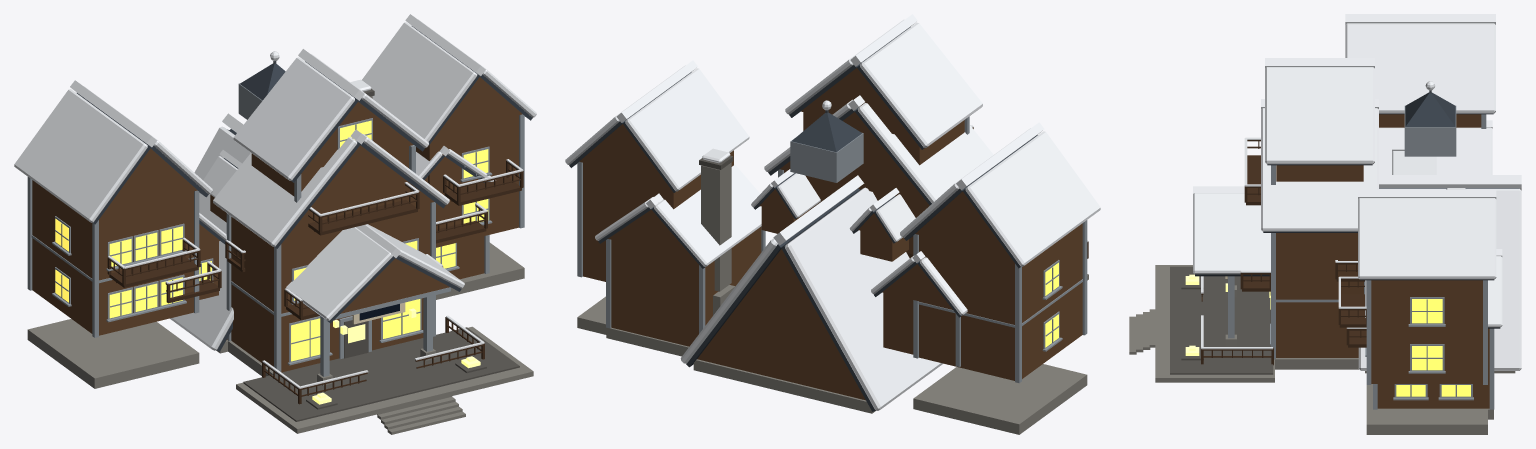
File: lodge-tier-3-aframe60s.glb
3 renders of one model, left to right at view 1: azimuth 30°, elevation 25°; view 2: azimuth 150°, elevation 25°; view 3: azimuth 270°, elevation 25°, orthographic. The views are drawn at different scales.
Parts seen in each view (by area): view 1: lodge-tier-3-aframe60s; view 2: lodge-tier-3-aframe60s; view 3: lodge-tier-3-aframe60s.
Boxes of the visible parts, <box> form: lodge-tier-3-aframe60s: <box>14,14,536,434</box>; lodge-tier-3-aframe60s: <box>565,14,1100,434</box>; lodge-tier-3-aframe60s: <box>1129,14,1521,434</box>.
Size of the model in its own units: 31.65 by 19.02 by 24.24.
